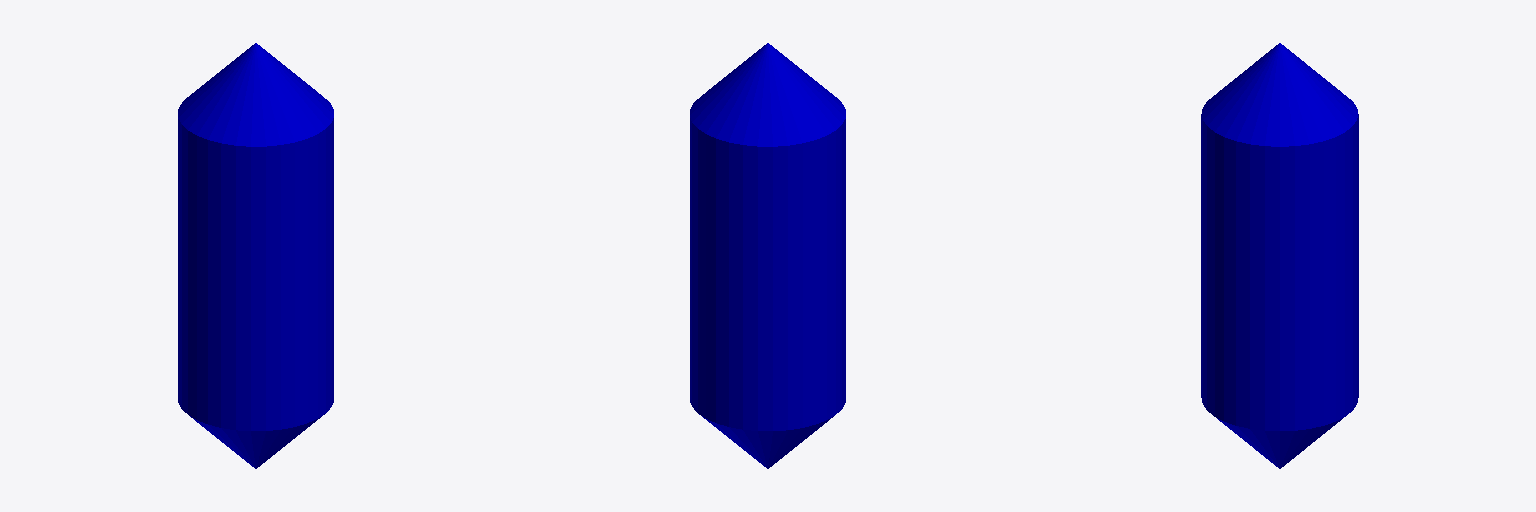
The model's file is example.obj.
The picture shows the model from 3 angles: view 1: azimuth 30°, elevation 25°; view 2: azimuth 150°, elevation 25°; view 3: azimuth 270°, elevation 25°; orthographic projection.
Visible parts, largest first — view 1: Circle_Material; view 2: Circle_Material; view 3: Circle_Material.
Part boxes in pixels (x1,y1,x2,y2): Circle_Material: (178, 43, 333, 468); Circle_Material: (690, 43, 845, 468); Circle_Material: (1201, 43, 1358, 468).
Size of the model in its own units: 2 by 6 by 2.